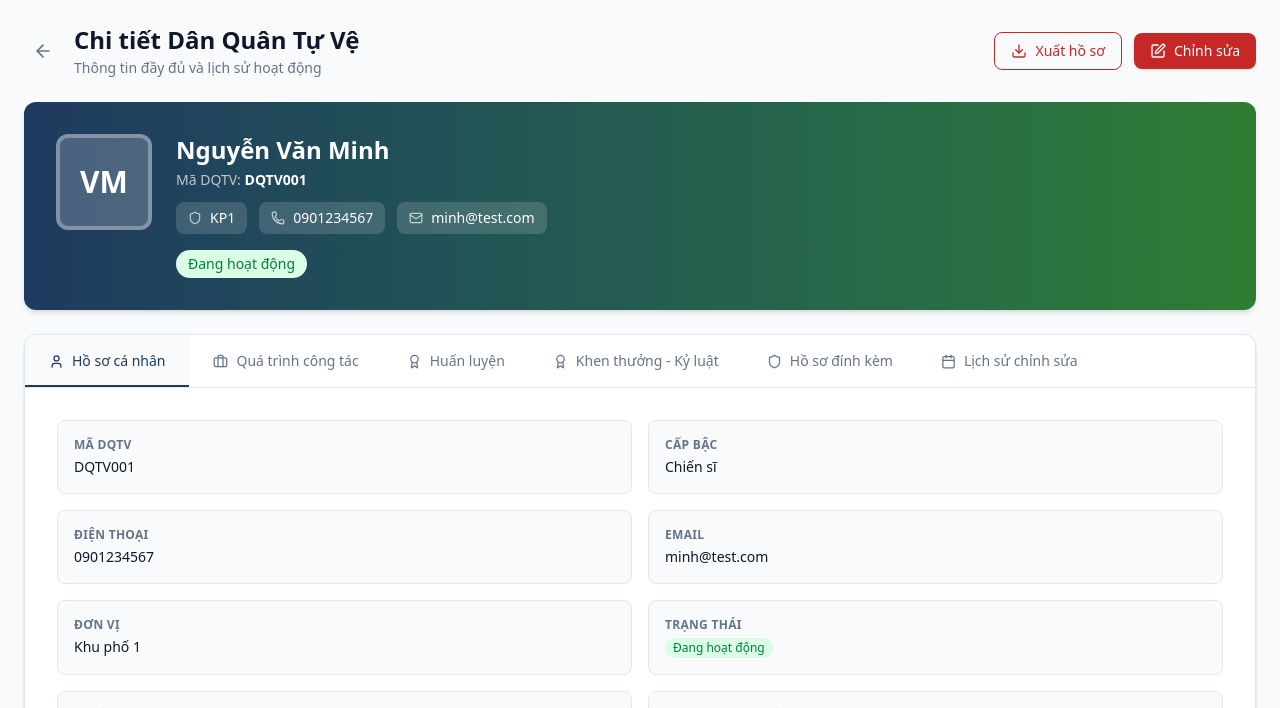
Test: MilitiaProfilePage › switches tab content on click
Check: the heading "Nguyễn Văn Minh" is shown, box [176, 133, 389, 166]
Click the button with test id "tab-history": coordinates (286, 361) [190, 335, 383, 387]
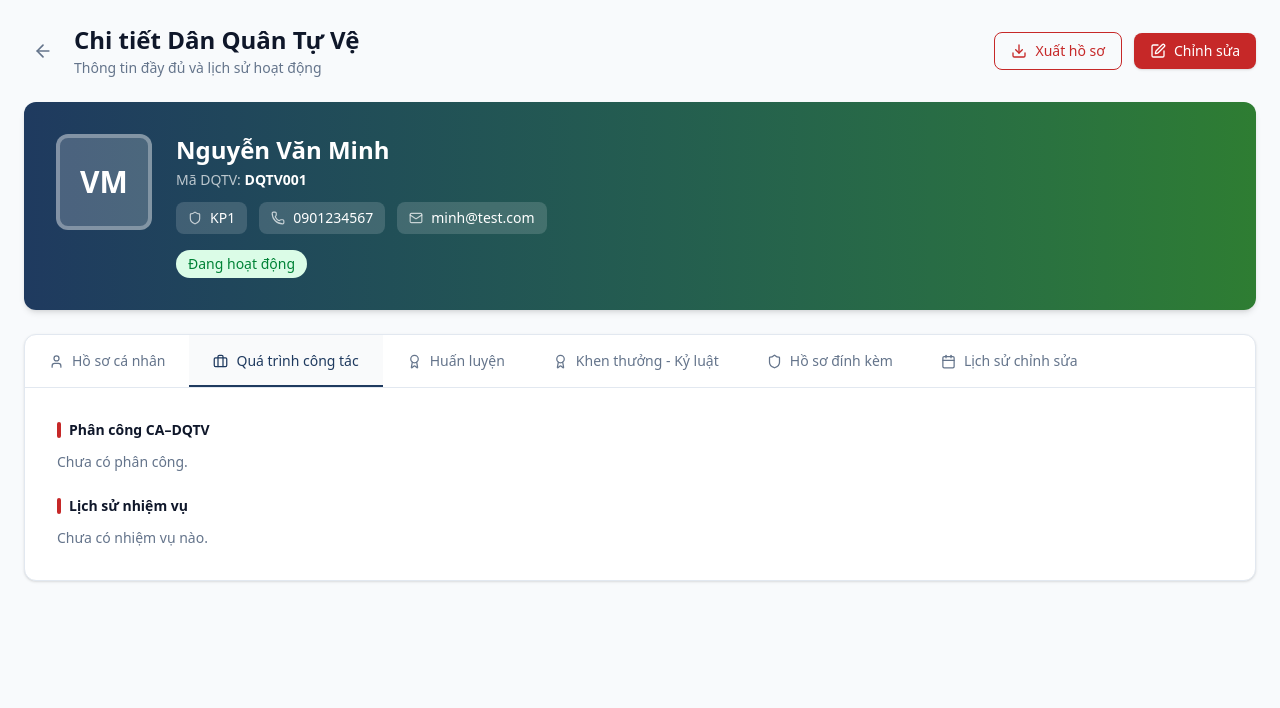
Check: the element with test id "history-tab" is shown, box [57, 420, 210, 547]
